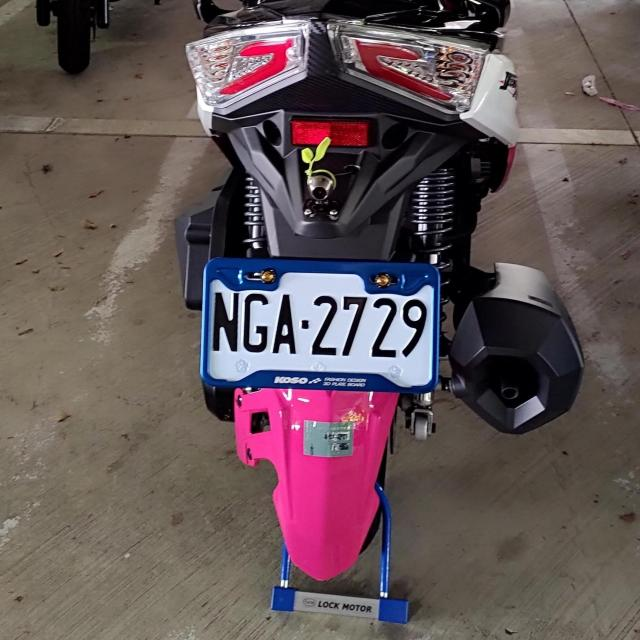W: (198, 257, 439, 384)
